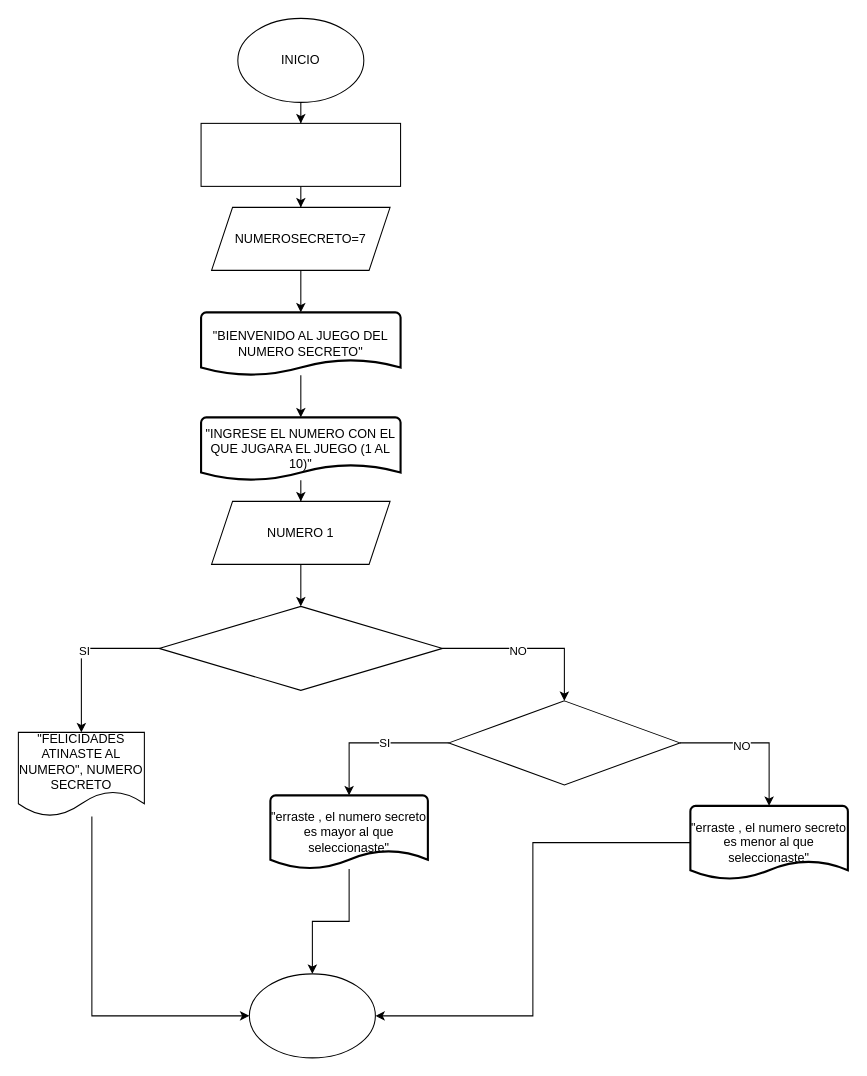
This 867x1076 diagram has some shape labels left out. Here are the shapes that lost their labels. From the top down, the box of each, then its label:
(200, 122, 401, 186): NUMERO1,NUMEROSECRETO
(158, 605, 443, 690): NUMEROSECRETO==NUMERO1
(448, 700, 680, 785): NUMEROSECRETO>NUMERO1
(248, 973, 375, 1058): FIN
